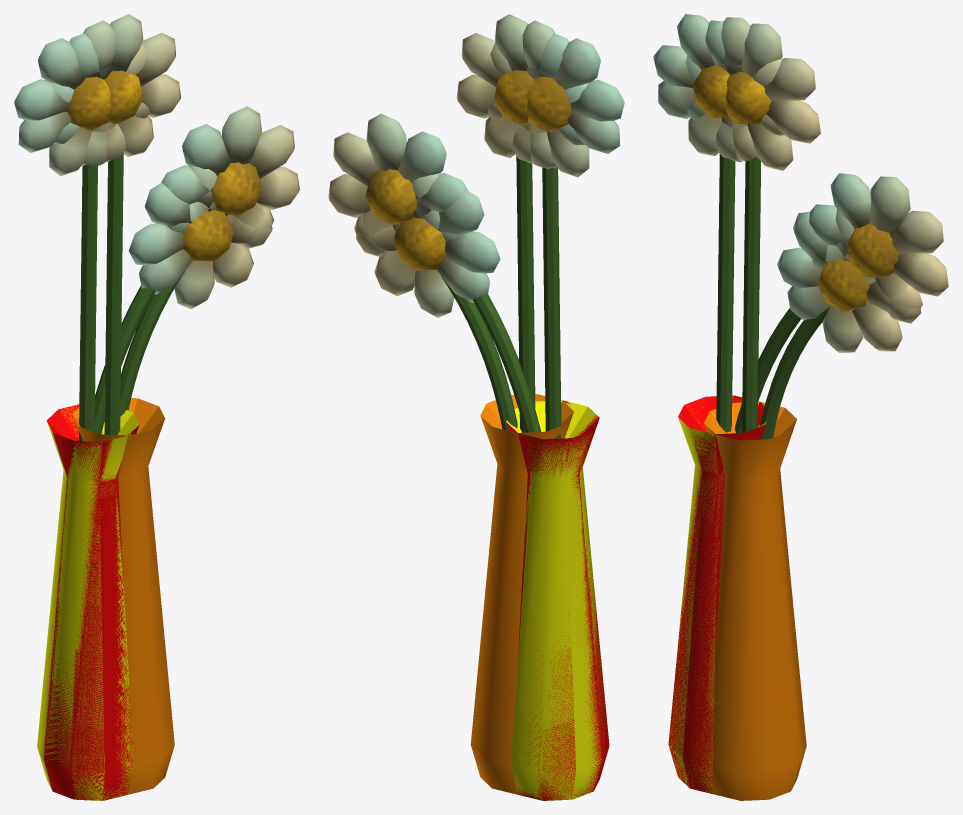
File: vases.FBX
3 views of the same model, side by side, from view 1: azimuth 30°, elevation 25°; view 2: azimuth 150°, elevation 25°; view 3: azimuth 330°, elevation 25° (orthographic).
Visible parts, largest first — view 1: red, org, yel; view 2: org, yel, red; view 3: org, red, yel.
Part boxes in pixels (bbox=[...]): red: bbox=[14, 20, 299, 800]; org: bbox=[50, 14, 273, 794]; yel: bbox=[25, 21, 227, 800]; org: bbox=[354, 14, 588, 794]; yel: bbox=[405, 21, 608, 800]; red: bbox=[328, 20, 624, 800]; org: bbox=[685, 20, 922, 800]; red: bbox=[653, 14, 948, 794]; yel: bbox=[659, 14, 853, 794].
Bounding box in the file's own units: 12.98 × 32.3 × 4.16.
